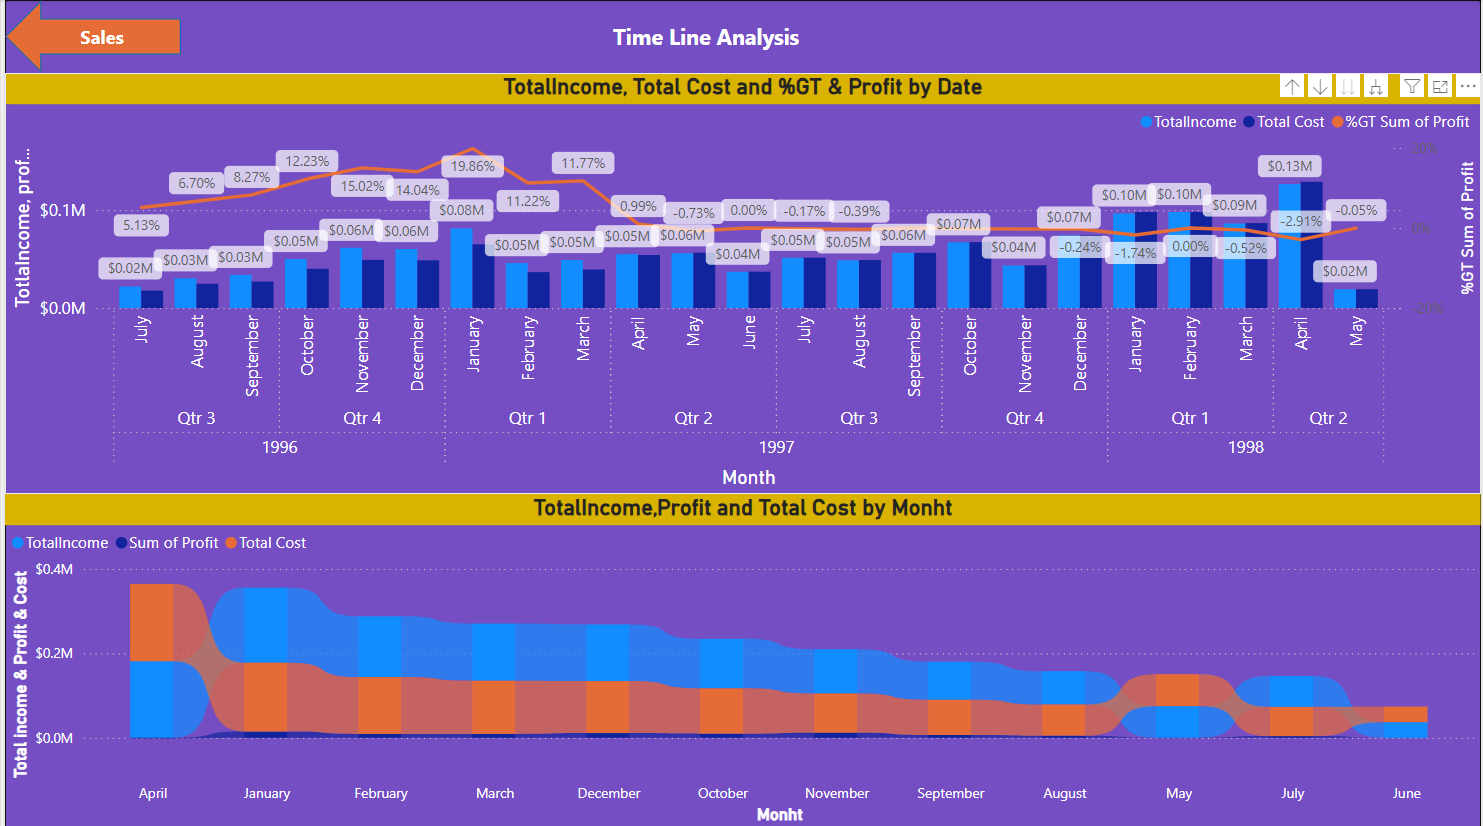

What the dashboard file says about the page in this screenshot:
{"tool":"powerbi","page":{"name":"TimeLine","canvas":[1280,720],"ordinal":11},"visuals":[{"type":"lineClusteredColumnComboChart","title":"TotalIncome, Total Cost and %GT & Profit by Date","fields":{"Category":["calendar.Date.Variation.Date Hierarchy.Year","calendar.Date.Variation.Date Hierarchy.Quarter","calendar.Date.Variation.Date Hierarchy.Month","calendar.Date.Variation.Date Hierarchy.Day"],"Y":["Details.TotalIncome","OrdersDetails.Total Cost"],"Y2":["Sum(OrdersDetails.Profit)"]},"box":[0,63.3,1280.4,365.2],"z":0},{"type":"ribbonChart","title":"TotalIncome,Profit and Total Cost by Monht","fields":{"Category":["calendar.Monht"],"Y":["Details.TotalIncome","Sum(OrdersDetails.Profit)","OrdersDetails.Total Cost"]},"box":[0,428.5,1280.4,291.5],"z":1000},{"type":"shape","box":[0,0,152.7,63.3],"z":2000},{"type":"shape","box":[458,0,300.1,63.3],"z":3000}]}

Visuals, with their boxes in screenshot pixels (x1, y1, x2, y2), scaled from the page's 1280x720 canvas onto the 1483x826 screenshot:
"TotalIncome, Total Cost and %GT & Profit by Date" lineClusteredColumnComboChart: [0,73,1482,492]
"TotalIncome,Profit and Total Cost by Monht" ribbonChart: [0,492,1482,825]
shape: [0,0,177,73]
shape: [531,0,878,73]
